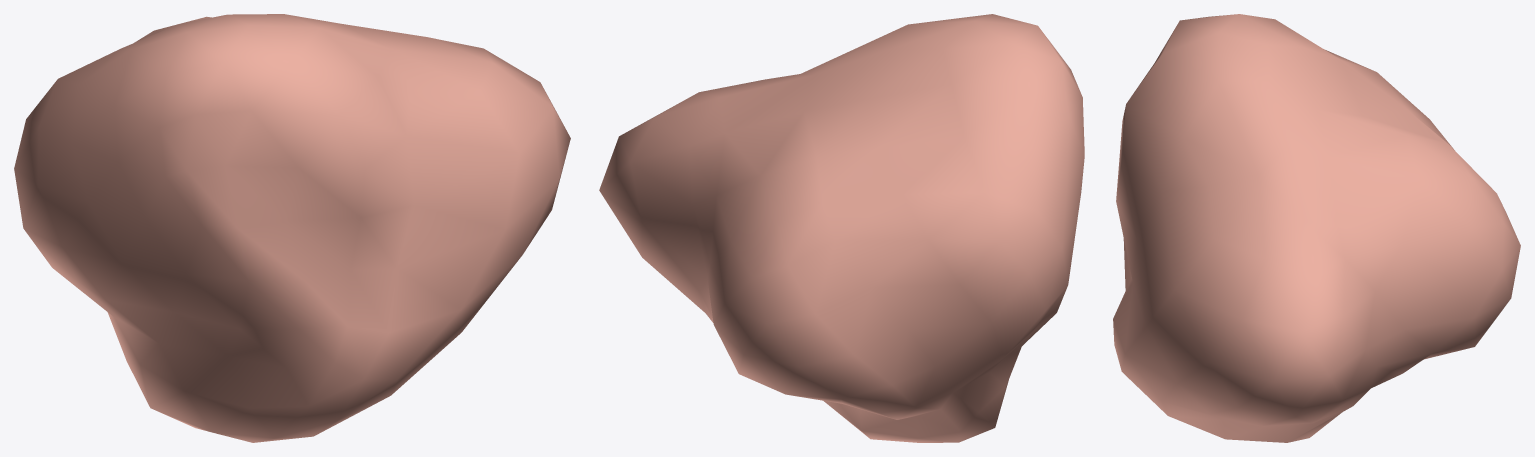
Rendered from Asteroid1.fbx.
3 renders of one model, left to right at view 1: azimuth 30°, elevation 25°; view 2: azimuth 150°, elevation 25°; view 3: azimuth 270°, elevation 25°, orthographic. The views are drawn at different scales.
Visible parts, largest first — view 1: asteroid; view 2: asteroid; view 3: asteroid.
Boxes of the visible parts, x1,y1,x2,y2 form: asteroid: [14, 14, 570, 442]; asteroid: [599, 14, 1084, 442]; asteroid: [1113, 14, 1520, 442].
Bounding box in the file's own units: 251 × 206 × 198.
